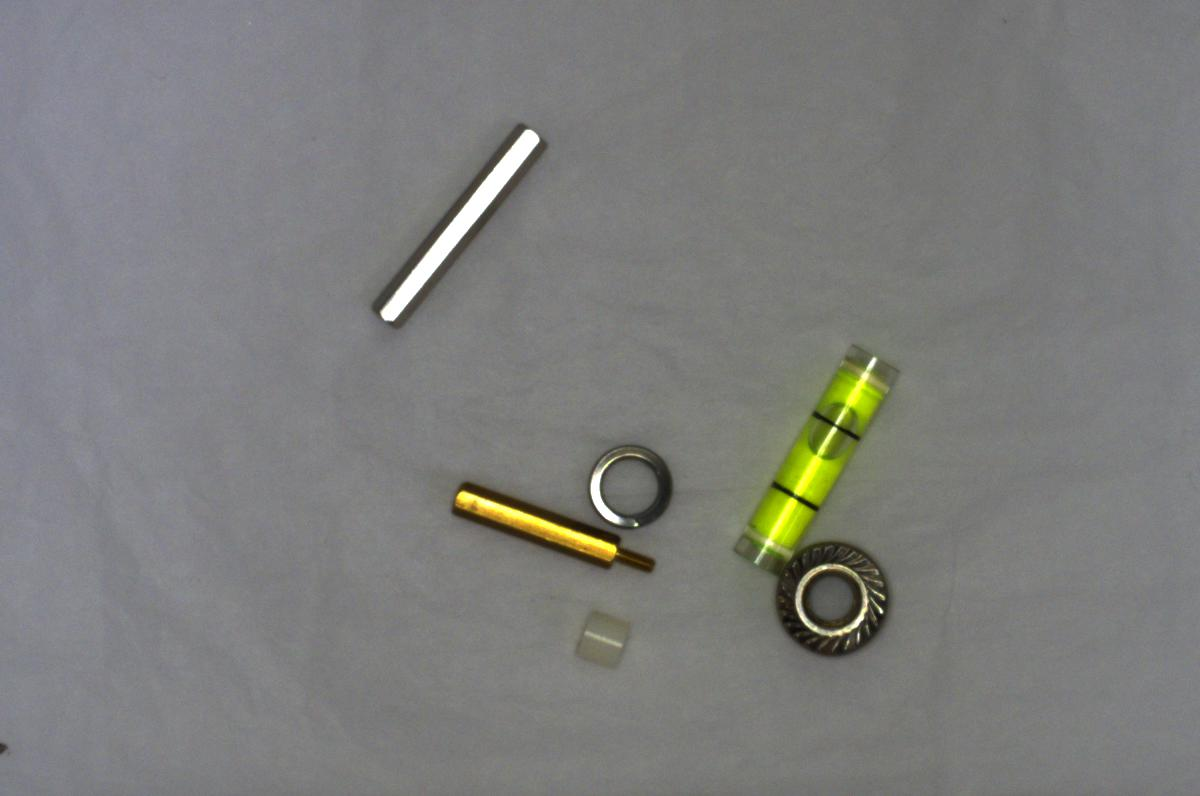Double hexagonal column: (365, 115, 555, 326)
Flange nut: (766, 539, 898, 662)
Hexagon pillar: (439, 482, 654, 579)
Horizontal bubble: (722, 339, 902, 573)
Plastic cushion pillar: (568, 612, 635, 663)
Spring washer: (588, 439, 680, 538)
